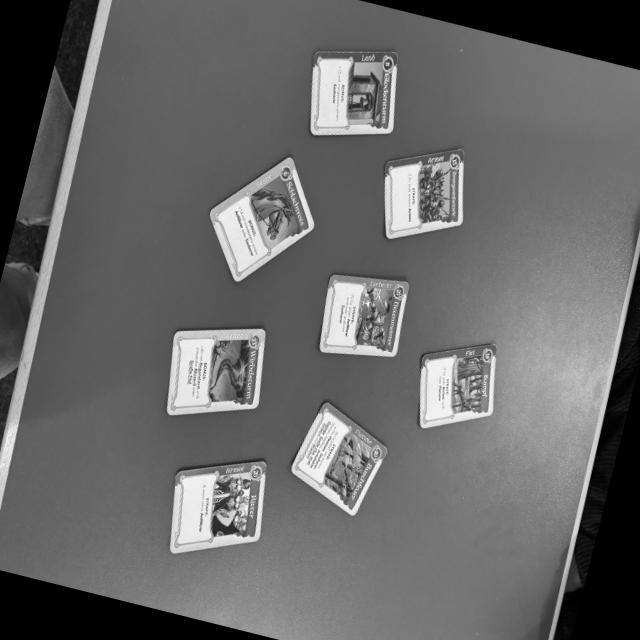Clock Tower: (308, 50, 397, 134)
Knights: (170, 460, 267, 555)
Light Cavalry: (384, 147, 465, 238)
Swamp: (420, 341, 497, 430)
War Horse: (207, 153, 315, 283)
Warlock Lord: (320, 274, 410, 357)
Whirlwind: (167, 326, 266, 416)
Wildfire: (290, 401, 389, 516)
